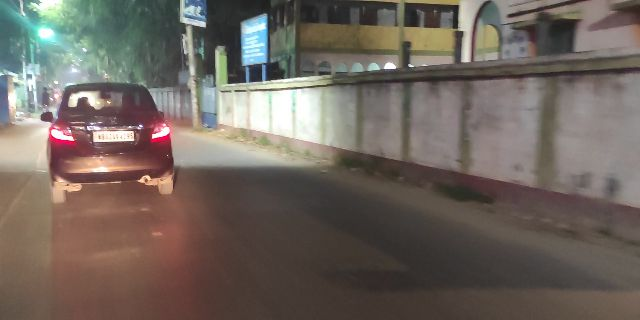Car: (44, 75, 180, 209)
